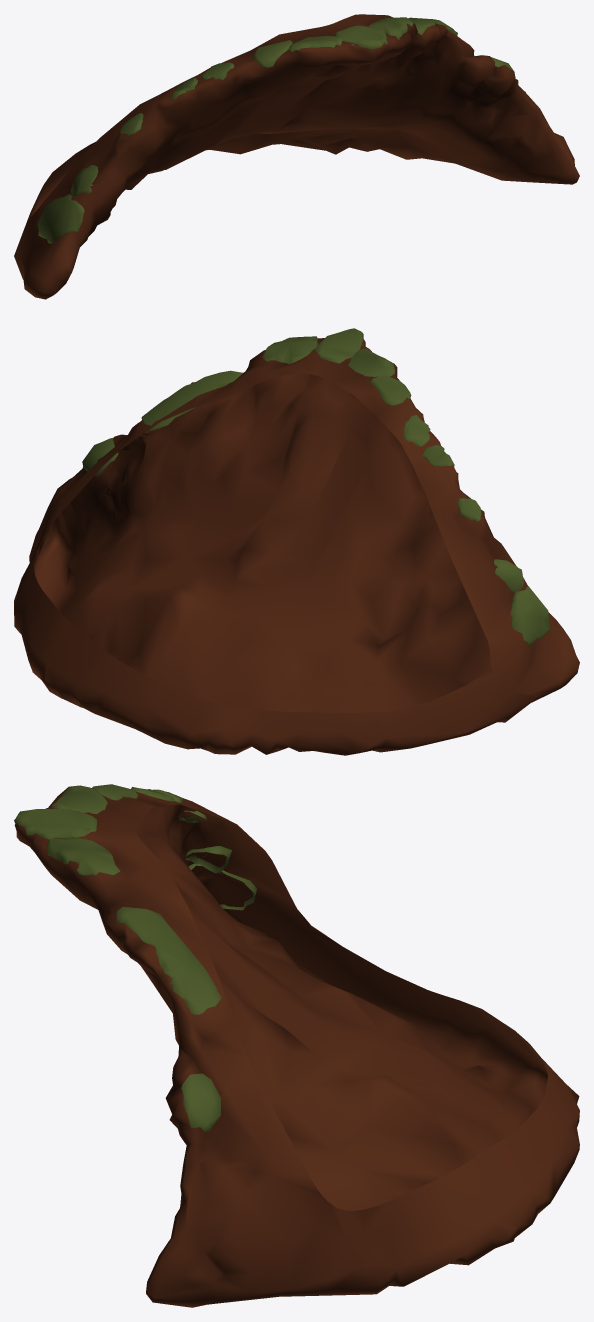
The model's file is env_excavationsite_mountain01_lod1.fbx.
The picture shows the model from 3 angles, top to bottom: view 1: azimuth 30°, elevation 25°; view 2: azimuth 150°, elevation 25°; view 3: azimuth 270°, elevation 25°; orthographic projection. The views are drawn at different scales.
Visible parts, largest first — view 1: lod0_env_excavationsite_mountain01.008, lod0_env_excavationsite_mountaingrass01_grass.002; view 2: lod0_env_excavationsite_mountain01.008, lod0_env_excavationsite_mountaingrass01_grass.002; view 3: lod0_env_excavationsite_mountain01.008, lod0_env_excavationsite_mountaingrass01_grass.002.
Part boxes in pixels (box(x1,y1,x2,y2)): lod0_env_excavationsite_mountain01.008: box(14, 14, 579, 299); lod0_env_excavationsite_mountaingrass01_grass.002: box(37, 17, 514, 243); lod0_env_excavationsite_mountain01.008: box(14, 338, 579, 755); lod0_env_excavationsite_mountaingrass01_grass.002: box(82, 328, 550, 646); lod0_env_excavationsite_mountain01.008: box(14, 786, 579, 1307); lod0_env_excavationsite_mountaingrass01_grass.002: box(14, 784, 256, 1132).
Size of the model in its own units: 2504 by 1179 by 1697.
